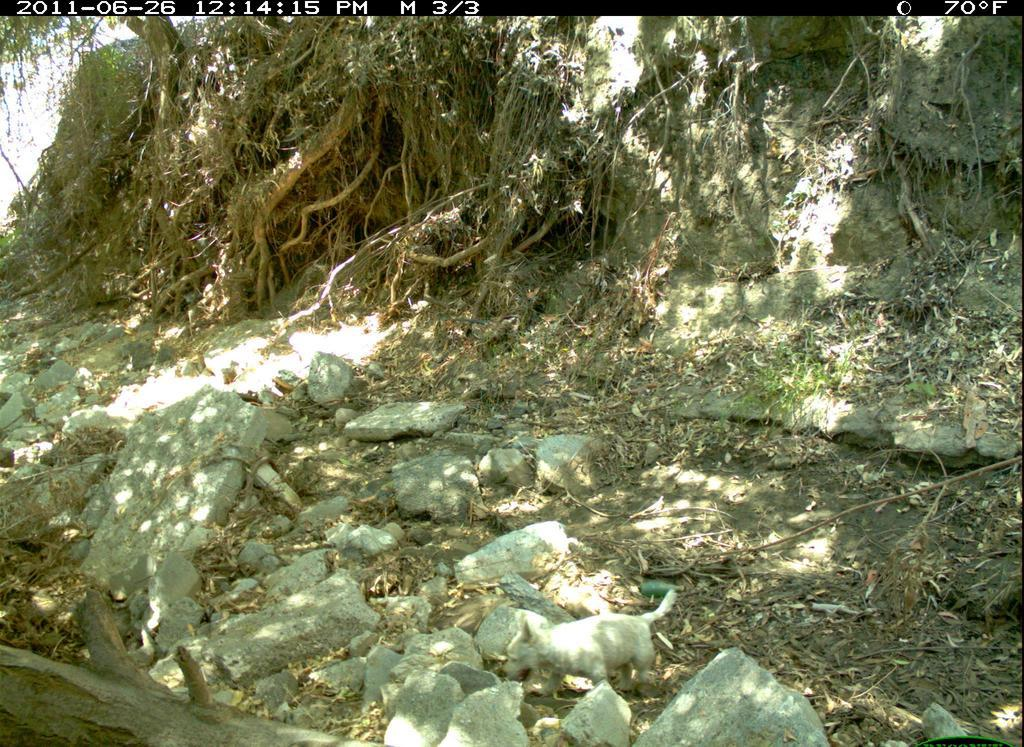dog: (505, 585, 694, 698)
